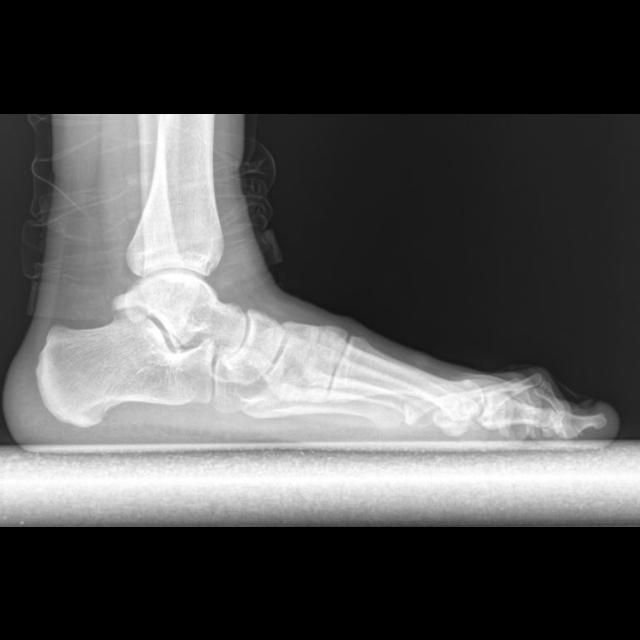a: (37, 311, 216, 428)
b: (226, 309, 285, 382)
c: (329, 335, 483, 422)
